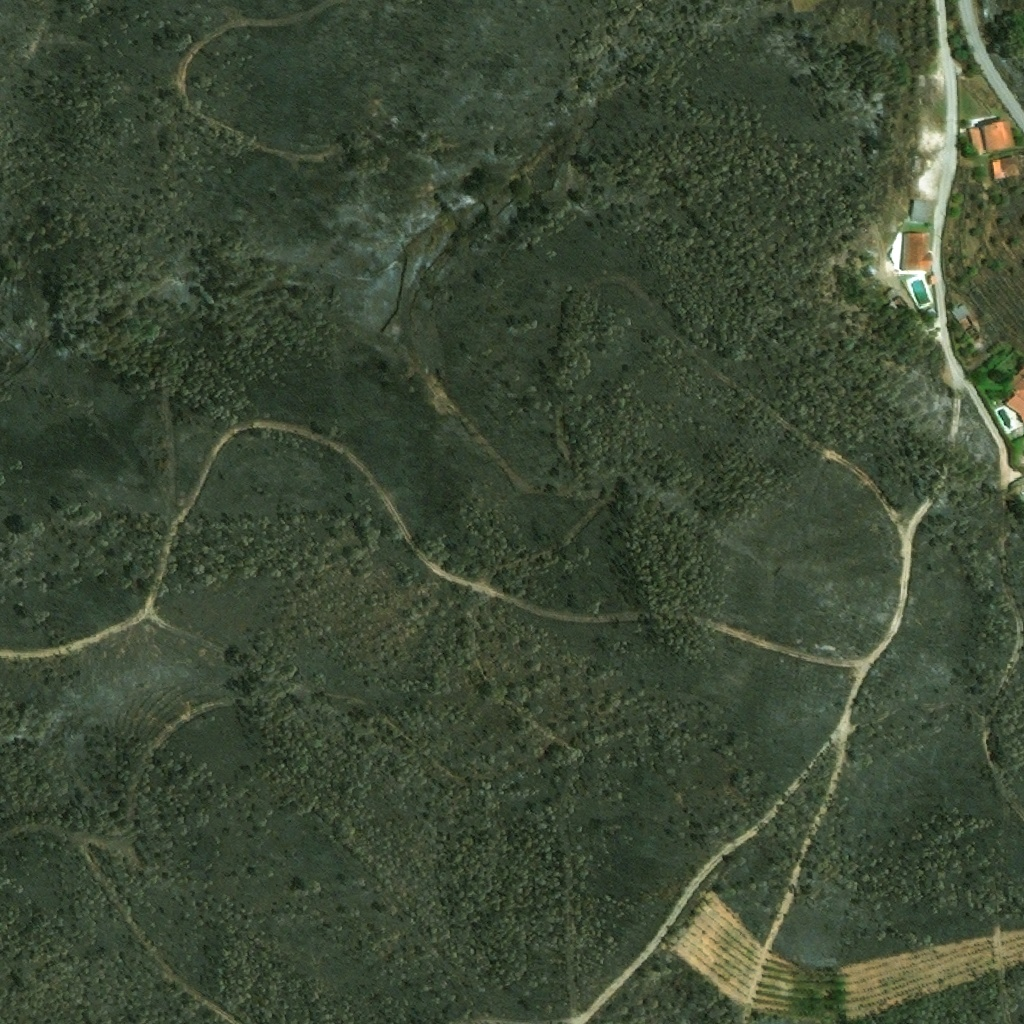0 no-damage: (966, 119, 1015, 158), (899, 232, 934, 273), (987, 154, 1023, 183), (910, 200, 929, 224), (948, 303, 970, 323), (925, 276, 934, 286)
3 destroyed: (958, 313, 998, 354), (883, 289, 906, 312), (911, 159, 919, 171)
4 un-classified: (1002, 366, 1023, 424), (1012, 439, 1023, 464)
